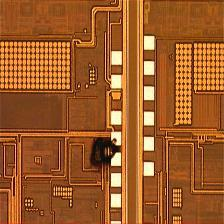PARTICLE: (90, 137, 120, 170)
